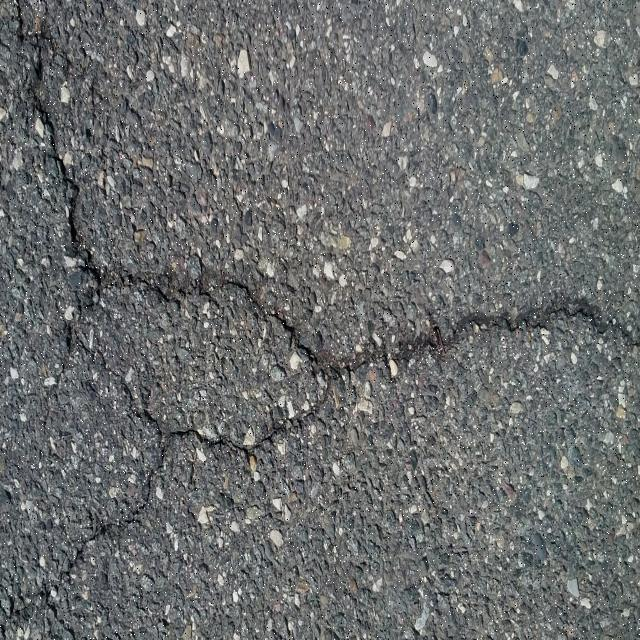Crack: (13, 0, 640, 614)
